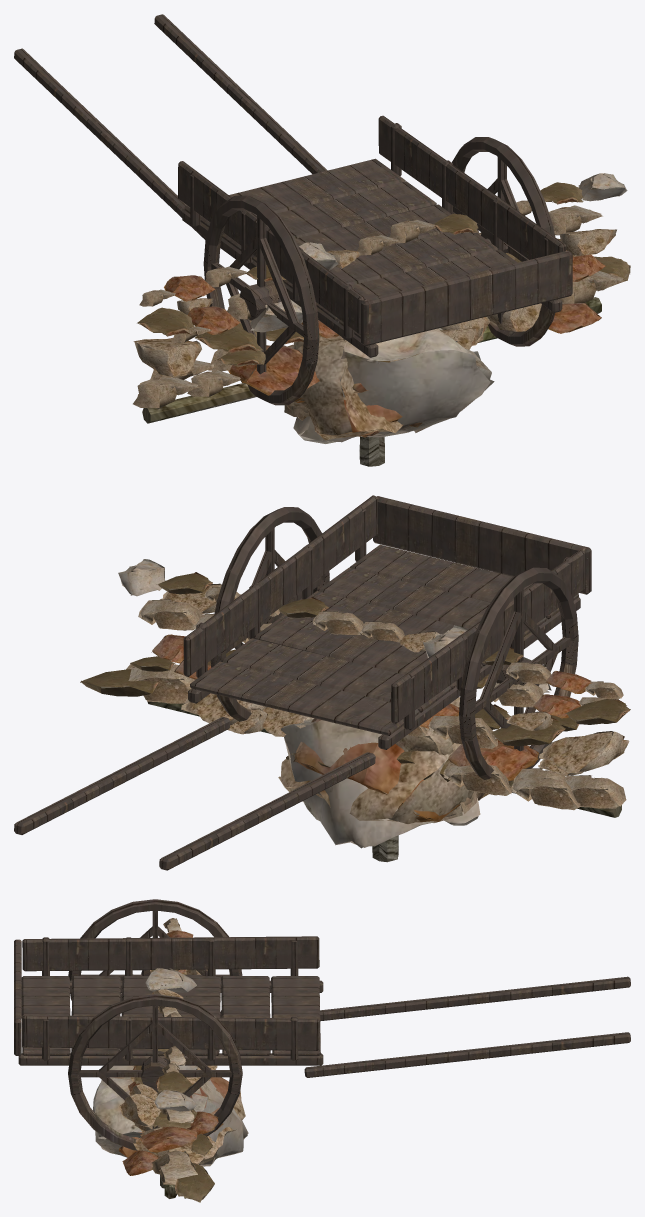
The model's file is road-props-lite.glb.
3 views of the same model, one above another, from view 1: azimuth 30°, elevation 25°; view 2: azimuth 150°, elevation 25°; view 3: azimuth 270°, elevation 25° (orthographic). The views are drawn at different scales.
Parts seen in each view (by area): view 1: cart, wall, rk4, rk2, frail, fpost; view 2: cart, wall, rk4, rk2, rk0, bd1, frail, rk1, fpost; view 3: cart, wall, rk4, rk2, rk0.
Part boxes in pixels (<box>): cart: <box>14,14,572,405</box>; wall: <box>133,173,630,408</box>; rk4: <box>293,328,494,443</box>; rk2: <box>287,338,403,440</box>; frail: <box>142,297,601,423</box>; fpost: <box>359,436,384,466</box>; cart: <box>14,495,591,870</box>; wall: <box>80,559,630,810</box>; rk4: <box>281,701,480,848</box>; rk2: <box>278,697,488,823</box>; rk0: <box>293,718,459,821</box>; bd1: <box>292,727,474,818</box>; frail: <box>147,701,621,817</box>; rk1: <box>290,728,477,822</box>; fpost: <box>372,835,398,862</box>; cart: <box>14,899,630,1150</box>; wall: <box>119,918,218,1202</box>; rk4: <box>93,1065,248,1166</box>; rk2: <box>199,1090,245,1164</box>; rk0: <box>119,1077,228,1157</box>.
Size of the model in its own units: 3.06 by 1.69 by 3.95.
3 materials, 3 textured.
